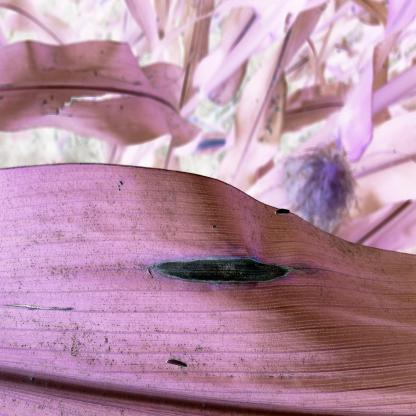corn gray leaf spot: (1, 148, 416, 405)
